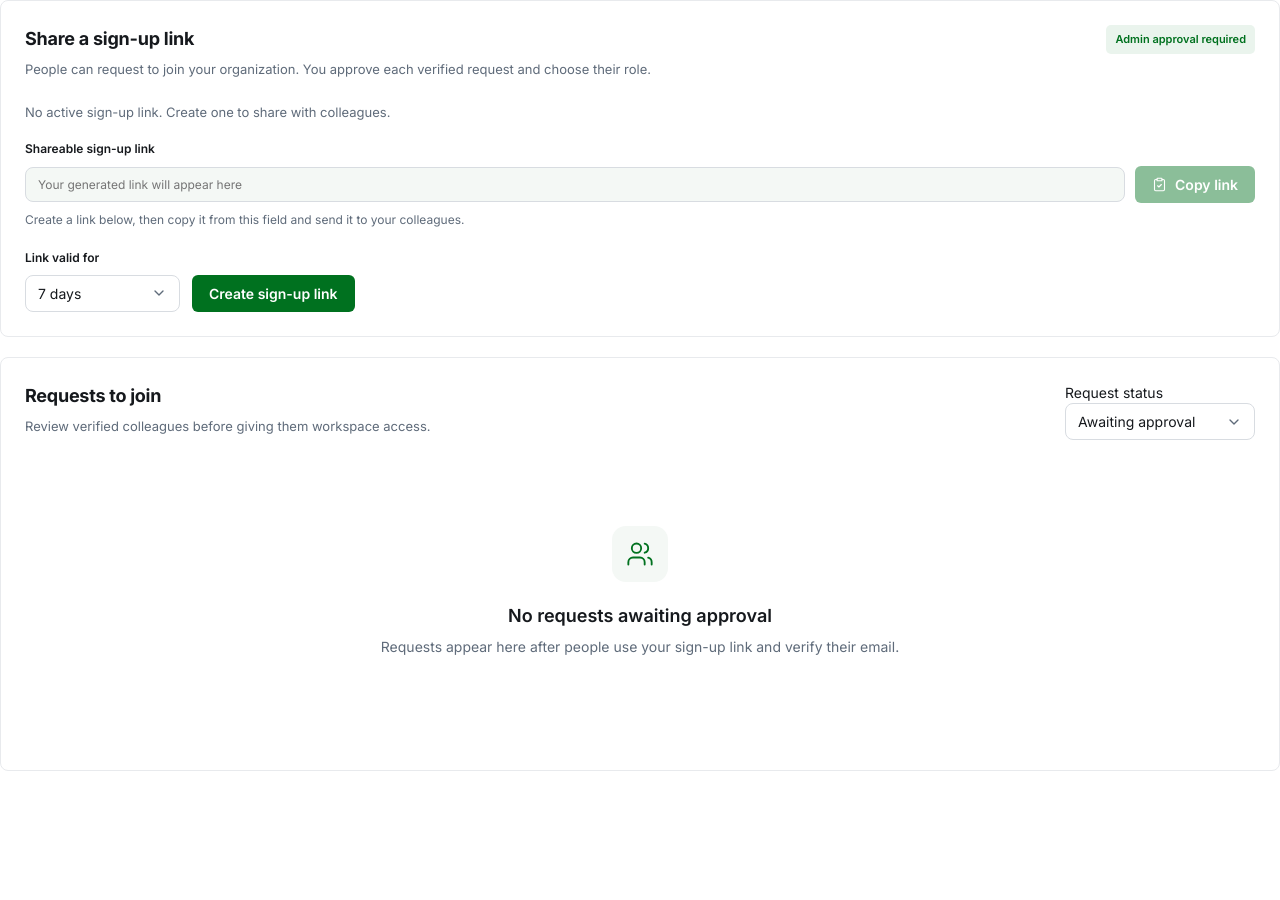
Scenario: organization sign-up link and approval › preserves controls and errors when link creation fails
Click the button "Create sign-up link": {"x": 273, "y": 293} [192,275,354,312]
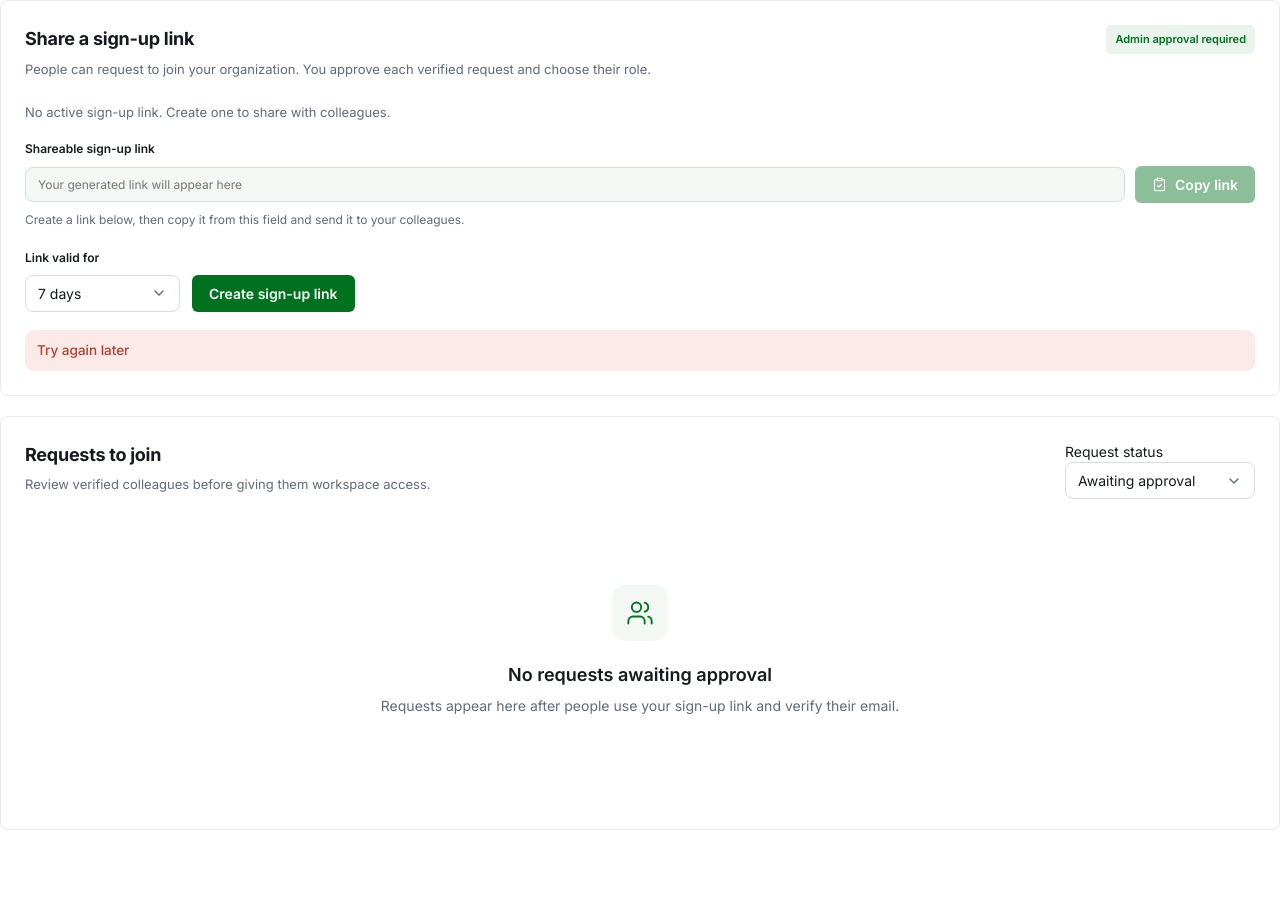
Expected: the message reads "Try again later", [37,342,129,358]
